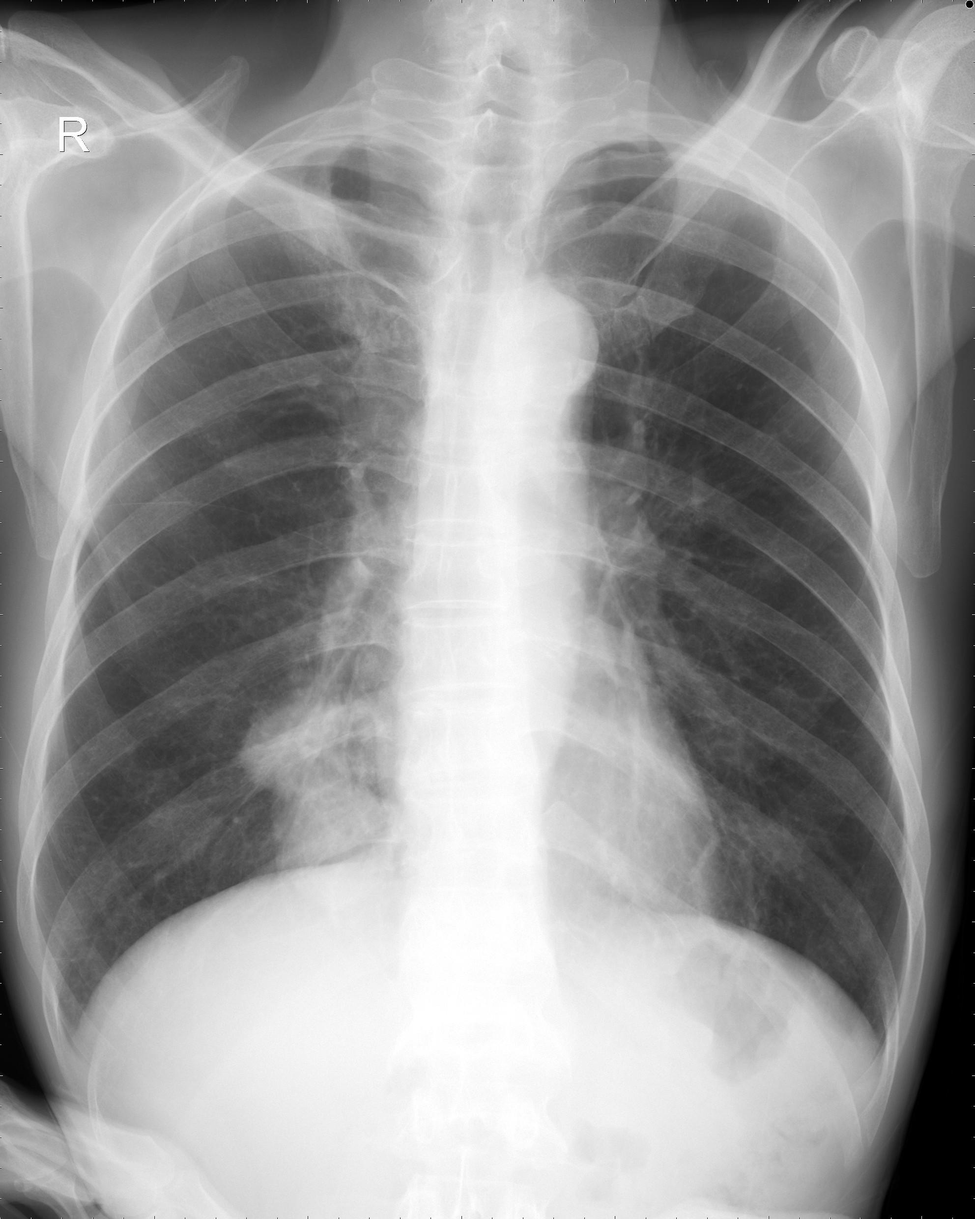Aortic enlargement: (495, 277, 598, 388)
Pleural thickening: (266, 136, 411, 156)
